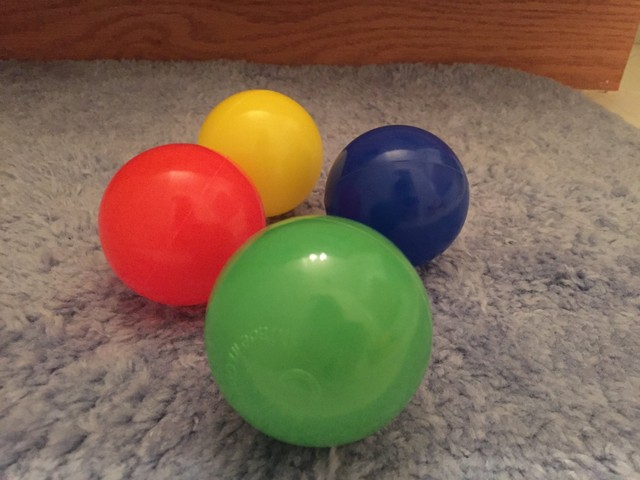Ball: (98, 142, 273, 309)
